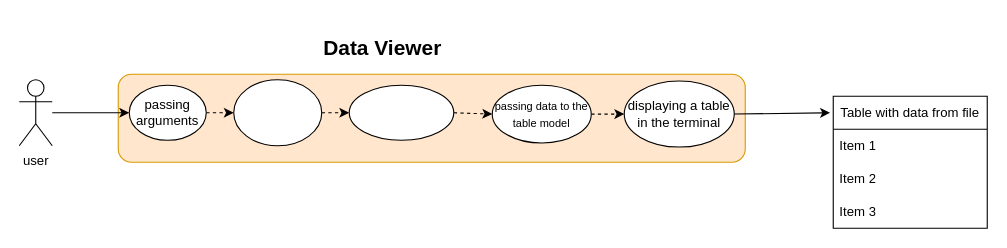
The diagram is 1007 pixels wide and 248 high, and some of its shapes have lost their labels. Here are the shapes that lost their labels. From the top down, the centre of each, then its label:
[277,112]: proccesing argument
[401,112]: parsing data from file
